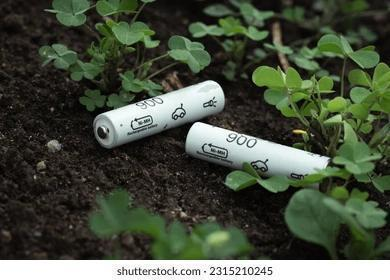AAA: (184, 119, 338, 195), (91, 77, 227, 150)
